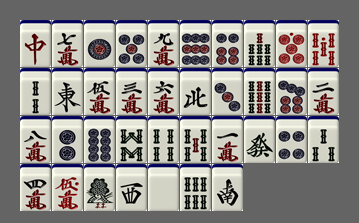0m: (52, 164, 83, 211)
0p: (276, 20, 307, 67)
0s: (308, 20, 339, 67)
1m: (212, 116, 243, 163)
1p: (84, 20, 115, 67)
1s: (84, 164, 115, 211)
1z: (52, 68, 83, 115)
2m: (308, 68, 339, 115)
2p: (52, 116, 83, 163)
2s: (20, 68, 51, 115)
2z: (212, 164, 243, 211)
3m: (116, 68, 147, 115)
3p: (212, 68, 243, 115)
3s: (308, 116, 339, 163)
3z: (116, 164, 147, 211)
4m: (20, 164, 51, 211)
4p: (276, 116, 307, 163)
4s: (148, 116, 179, 163)
4z: (180, 68, 211, 115)
5m: (84, 68, 115, 115)
5p: (116, 20, 147, 67)
5s: (180, 116, 211, 163)
5z: (148, 164, 179, 211)
6m: (148, 68, 179, 115)
6p: (212, 20, 243, 67)
6s: (180, 164, 211, 211)
6z: (244, 116, 275, 163)
7m: (52, 20, 83, 67)
7p: (276, 68, 307, 115)
7s: (244, 20, 275, 67)
7z: (20, 20, 51, 67)
8m: (20, 116, 51, 163)
8p: (84, 116, 115, 163)
8s: (116, 116, 147, 163)
9m: (148, 20, 179, 67)
9p: (180, 20, 211, 67)
9s: (244, 68, 275, 115)
